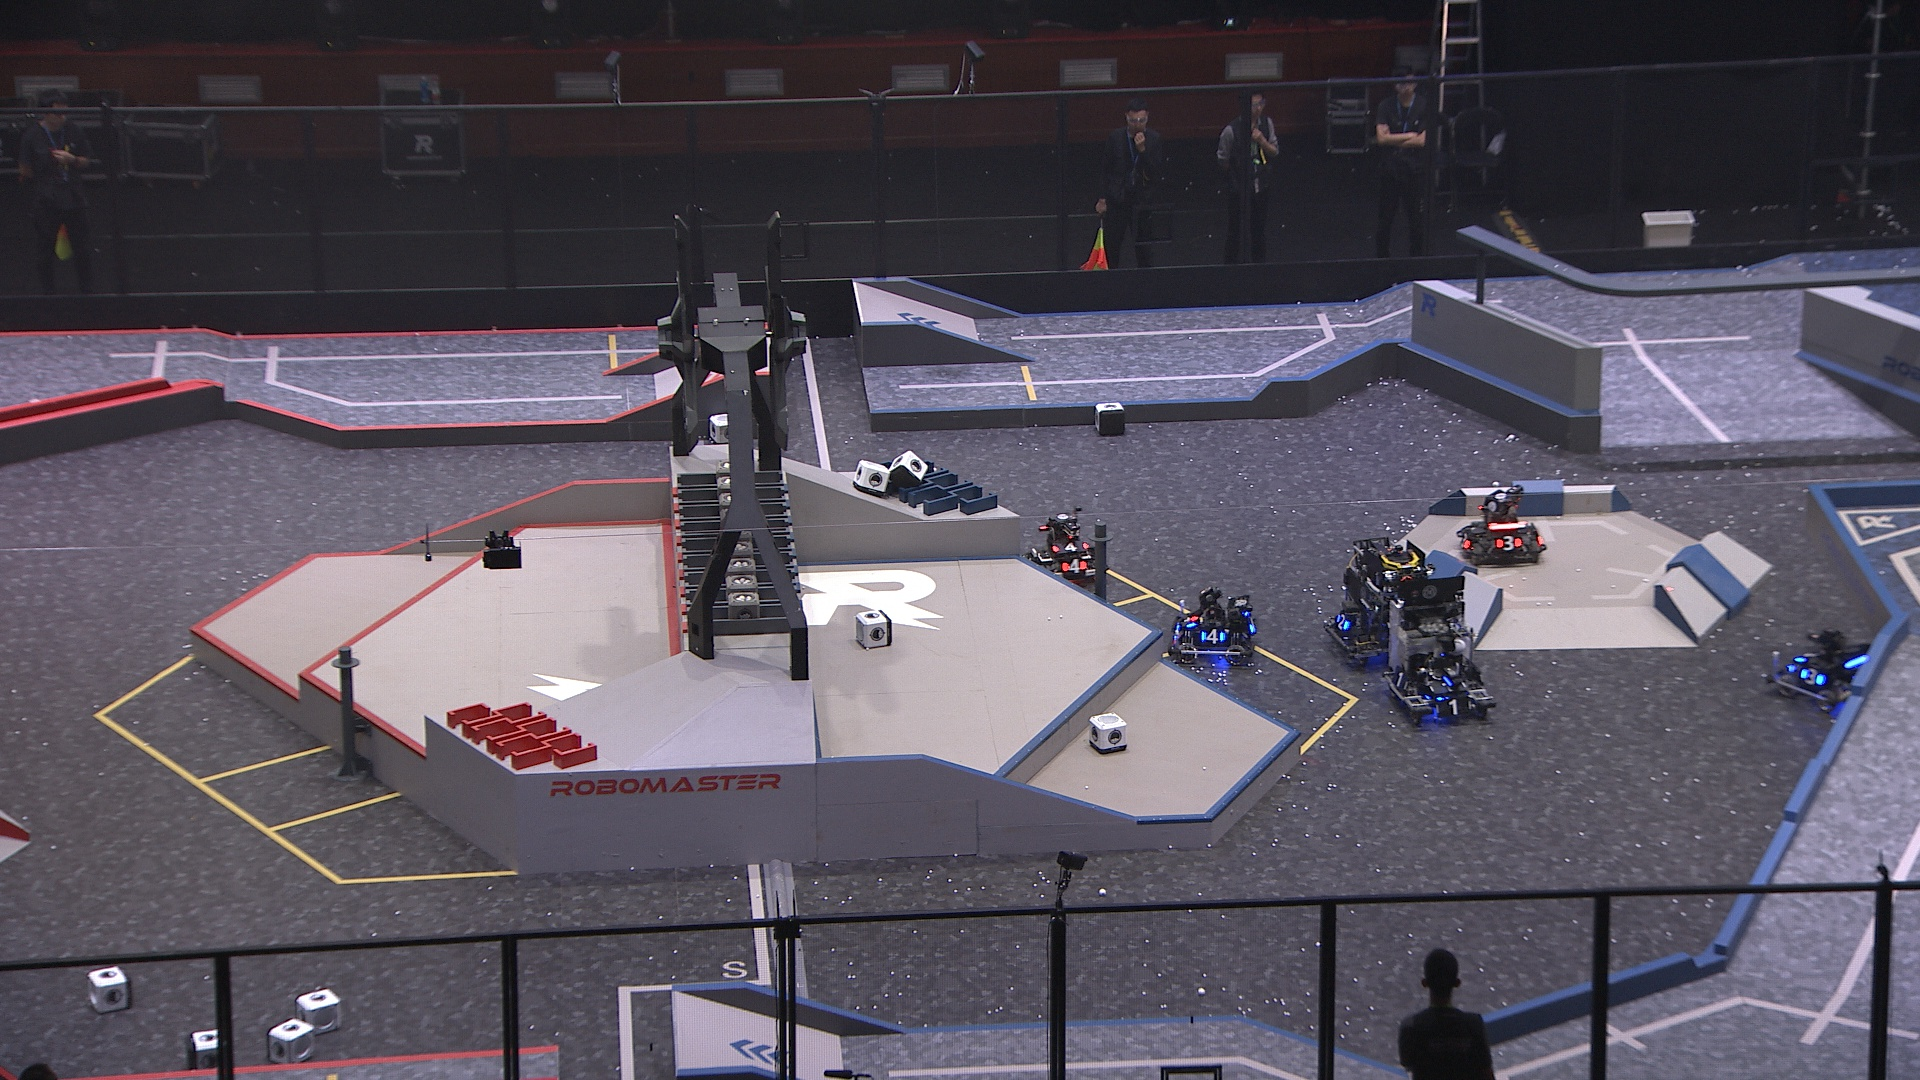armor: (1433, 698, 1472, 716), (1797, 669, 1826, 690), (1495, 533, 1524, 553), (1429, 679, 1466, 694), (1054, 541, 1091, 555), (1793, 647, 1816, 669), (1391, 669, 1410, 694), (1199, 632, 1230, 646), (1063, 559, 1088, 574), (1337, 609, 1353, 632), (1247, 612, 1259, 637), (1457, 531, 1472, 550), (1185, 611, 1196, 632)
car: (1385, 570, 1498, 727), (1324, 535, 1436, 673), (1774, 626, 1884, 717), (1168, 584, 1257, 673), (1455, 483, 1544, 570), (1021, 506, 1106, 588)
